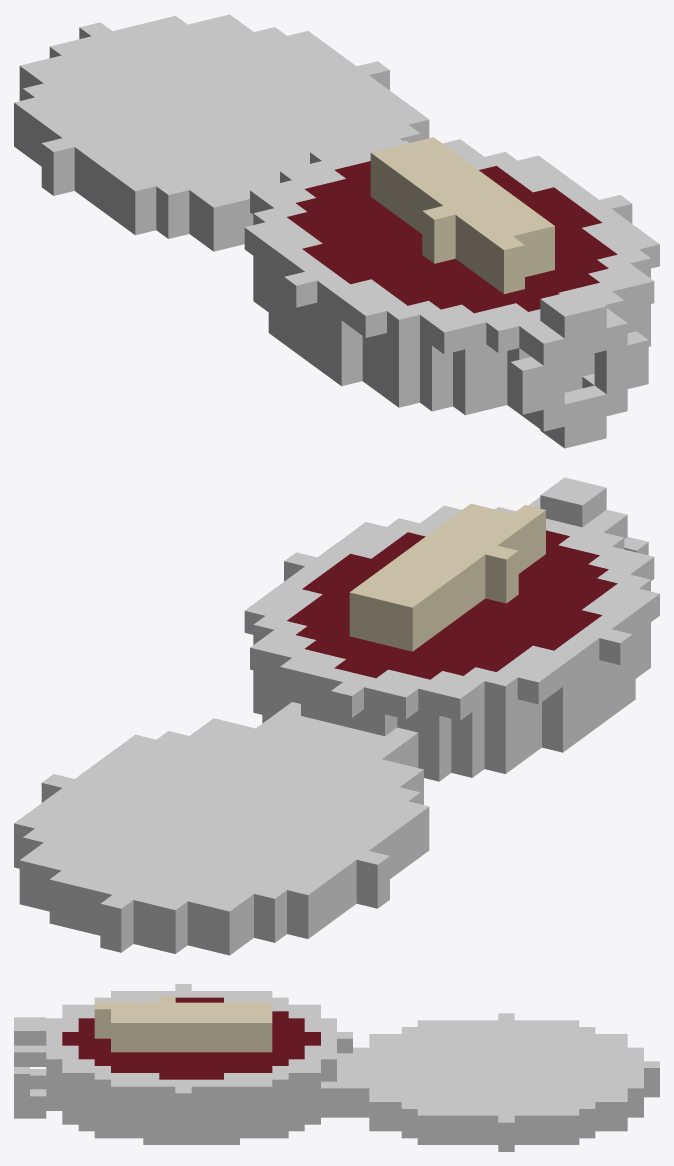
File: small_relic.glb
3 views of the same model, one above another, from view 1: azimuth 30°, elevation 25°; view 2: azimuth 150°, elevation 25°; view 3: azimuth 270°, elevation 25° (orthographic). The views are drawn at different scales.
Parts seen in each view (by area): view 1: small_relic:compound; view 2: small_relic:compound; view 3: small_relic:compound.
Boxes of the visible parts, <box> form: small_relic:compound: <box>14,14,659,448</box>; small_relic:compound: <box>14,477,659,955</box>; small_relic:compound: <box>14,984,659,1151</box>.
Bounding box in the file's own units: 0.032 × 0.014 × 0.08.
